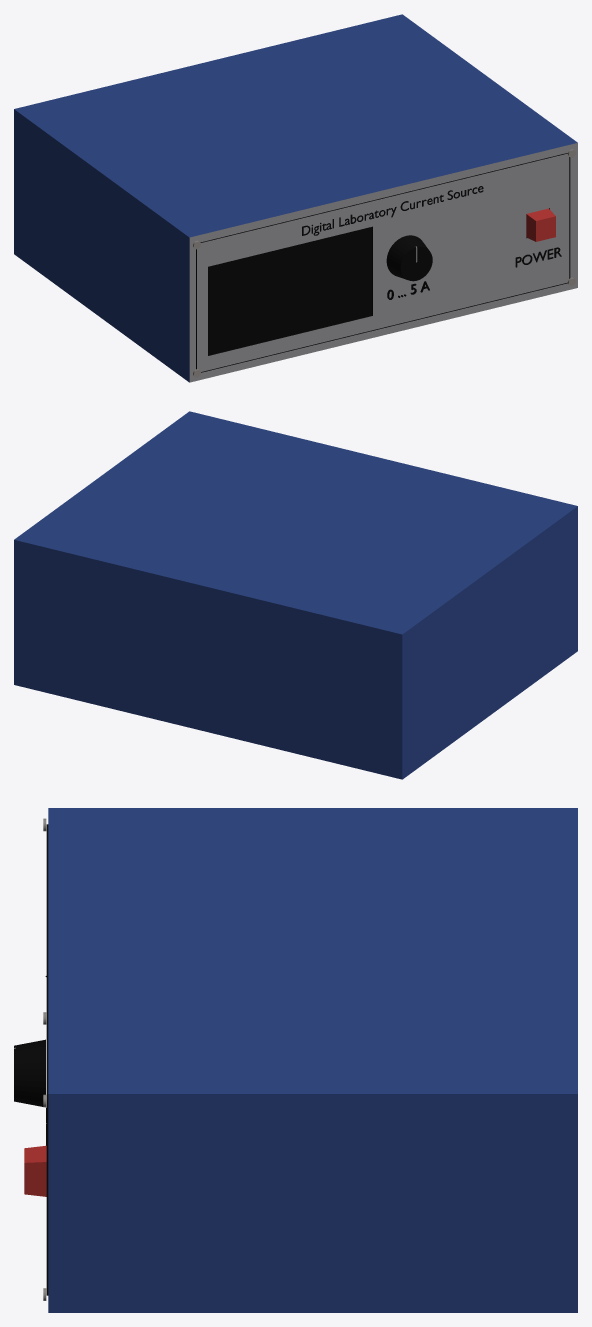
Rendered from currentSource.glb.
The picture shows the model from 3 angles, top to bottom: view 1: azimuth 30°, elevation 25°; view 2: azimuth 150°, elevation 25°; view 3: azimuth 270°, elevation 25°; orthographic projection. The views are drawn at different scales.
Parts seen in each view (by area): view 1: stand.017, contrast, power; view 2: stand.017; view 3: stand.017, contrast, power.
Boxes of the visible parts, x1=… form: stand.017: x1=14, y1=14, x2=577, y2=382; contrast: x1=386, y1=235, x2=432, y2=281; power: x1=526, y1=208, x2=555, y2=241; stand.017: x1=14, y1=411, x2=577, y2=779; stand.017: x1=43, y1=808, x2=577, y2=1312; contrast: x1=14, y1=1039, x2=45, y2=1106; power: x1=24, y1=1145, x2=46, y2=1196.
Size of the model in its own units: 191 by 68.22 by 159.
